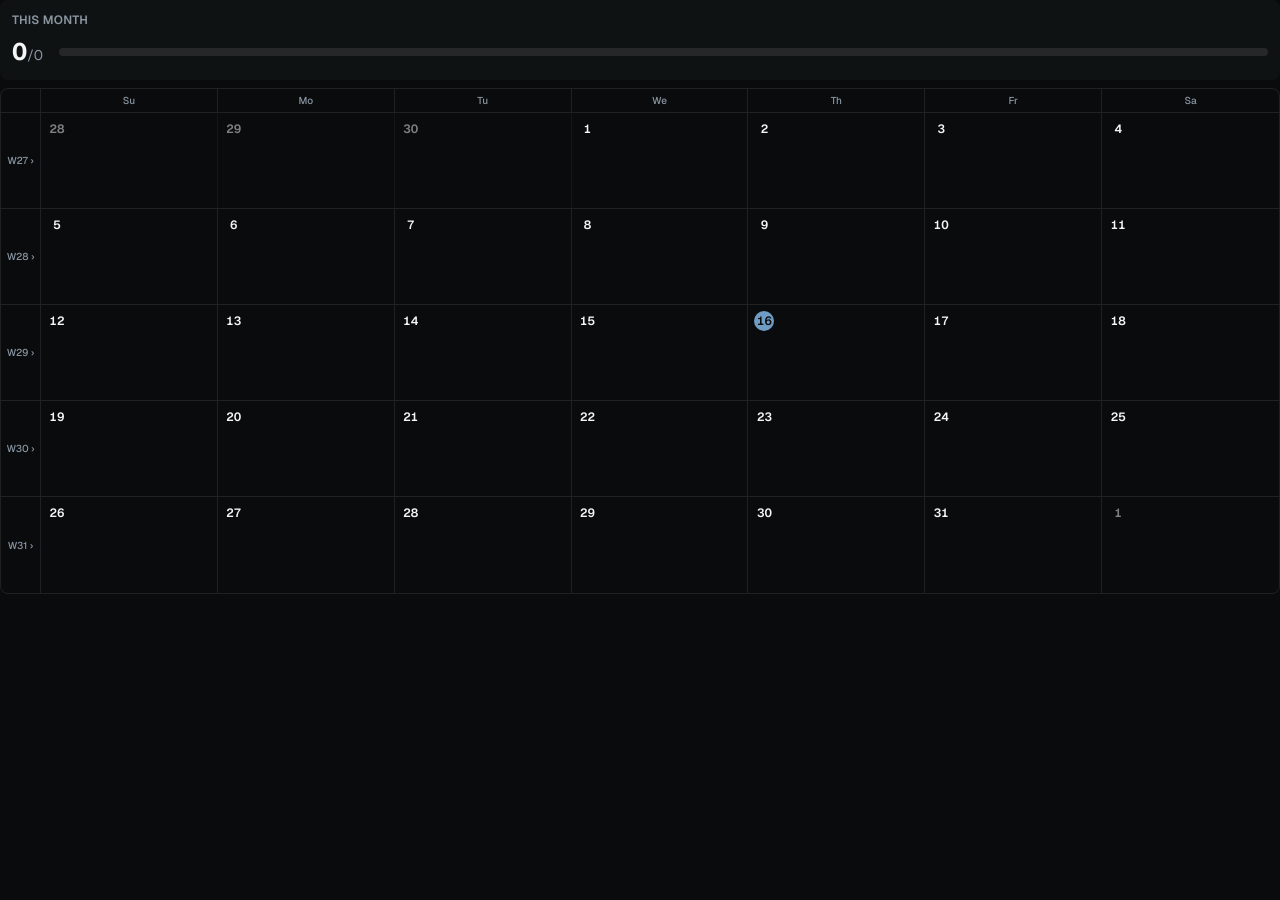
Scenario: MonthlyView › clicking a day cell opens the day-agenda drawer for that date, no task-detail drawer yet
Step 1. Click the button named "Open 2026-07-14" → (483,352), box [395,305,572,400]
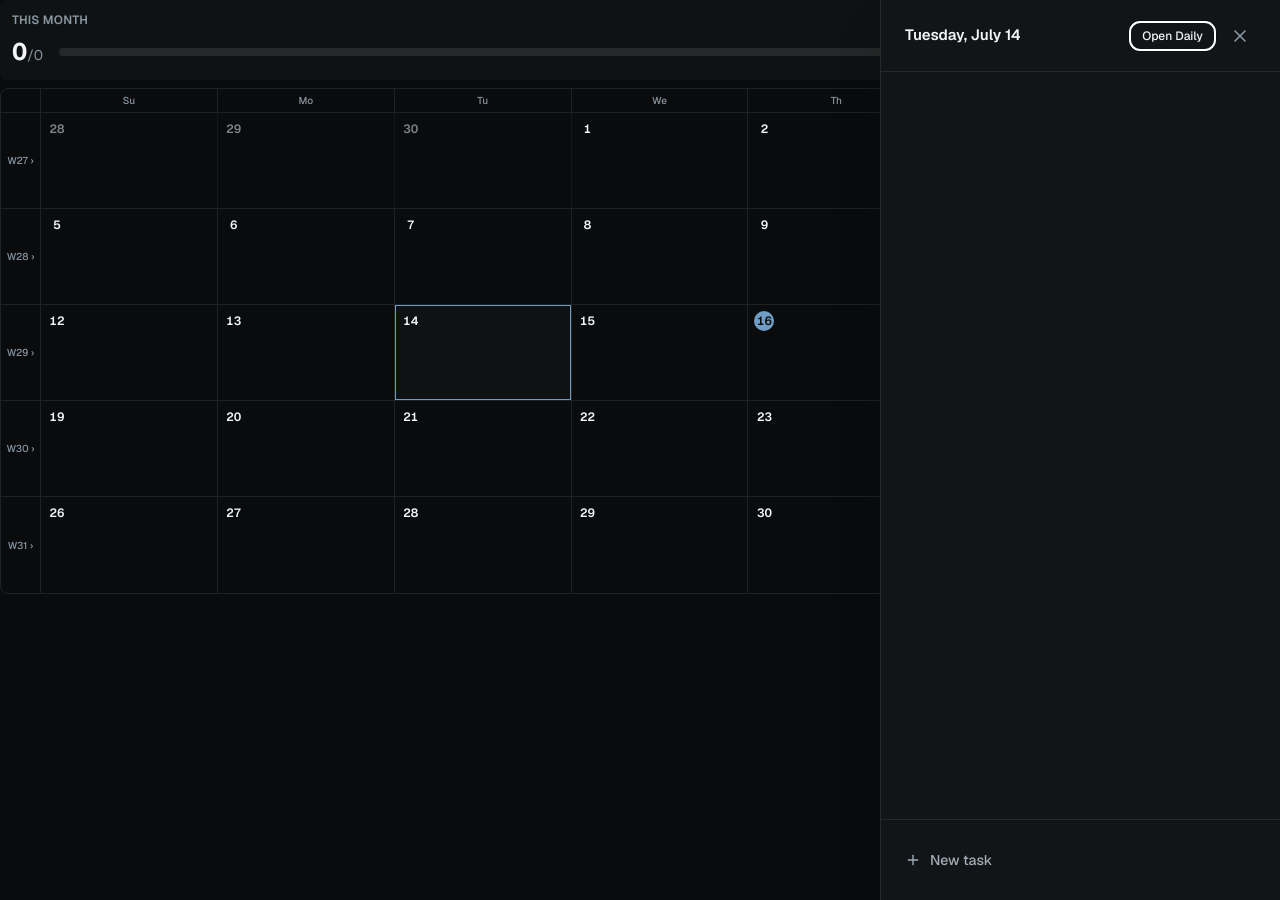
Expected: the dialog with test id "day-agenda-drawer" is shown, [880,0,1279,899]
